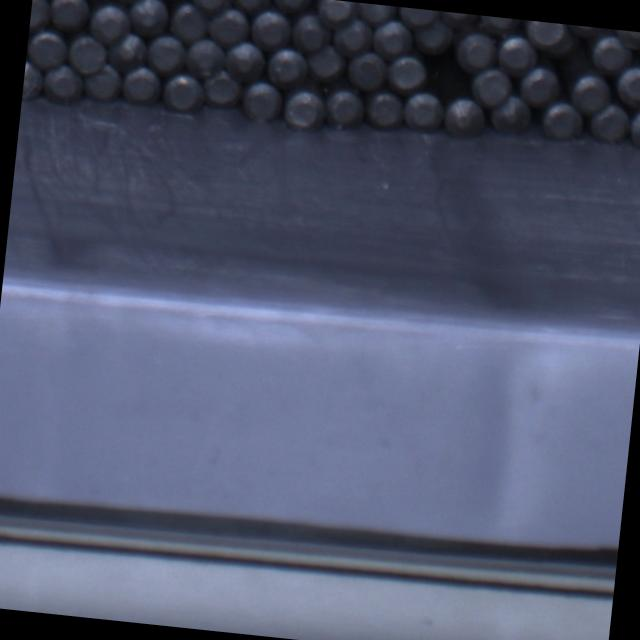tool: (488, 94, 533, 138), (250, 7, 294, 51), (205, 5, 249, 48), (519, 64, 562, 108), (223, 40, 267, 83), (442, 95, 486, 138), (346, 49, 389, 92), (402, 90, 444, 134), (290, 11, 334, 53), (161, 71, 205, 113), (540, 100, 584, 142), (588, 102, 632, 144), (456, 31, 500, 73), (240, 80, 284, 122), (87, 0, 131, 42), (496, 34, 540, 76), (26, 27, 68, 70), (331, 16, 374, 58), (569, 72, 612, 114), (412, 14, 456, 55), (66, 32, 108, 74), (470, 66, 512, 108), (322, 87, 364, 129), (168, 1, 210, 43), (371, 18, 414, 59), (184, 37, 227, 78), (40, 62, 84, 102), (284, 87, 326, 128), (304, 43, 346, 84), (120, 64, 162, 105), (589, 32, 632, 72), (362, 89, 403, 130), (384, 53, 426, 93), (145, 34, 187, 74), (266, 46, 308, 86), (80, 62, 122, 102), (200, 68, 242, 108), (104, 30, 146, 70), (126, 0, 169, 37), (47, 0, 90, 32), (523, 20, 564, 48), (614, 65, 640, 108), (314, 0, 356, 24), (356, 2, 399, 24), (477, 14, 524, 34), (22, 58, 44, 100), (398, 6, 438, 26), (438, 11, 480, 30), (29, 0, 50, 32), (270, 0, 314, 12), (188, 0, 232, 11), (629, 107, 640, 149), (230, 0, 271, 10)
